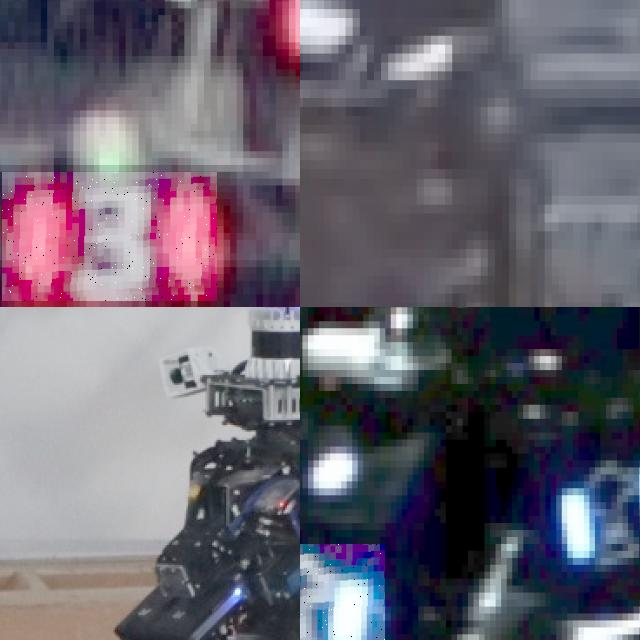Bs: (300, 544, 385, 640), (561, 474, 640, 564)
R3: (2, 172, 217, 301)
